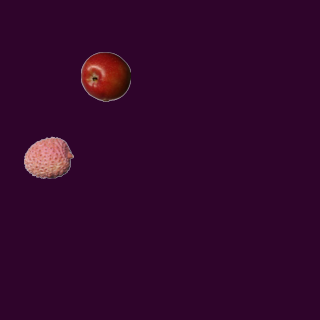Apple Braeburn: (80, 51, 130, 101)
Lychee: (23, 132, 73, 182)
